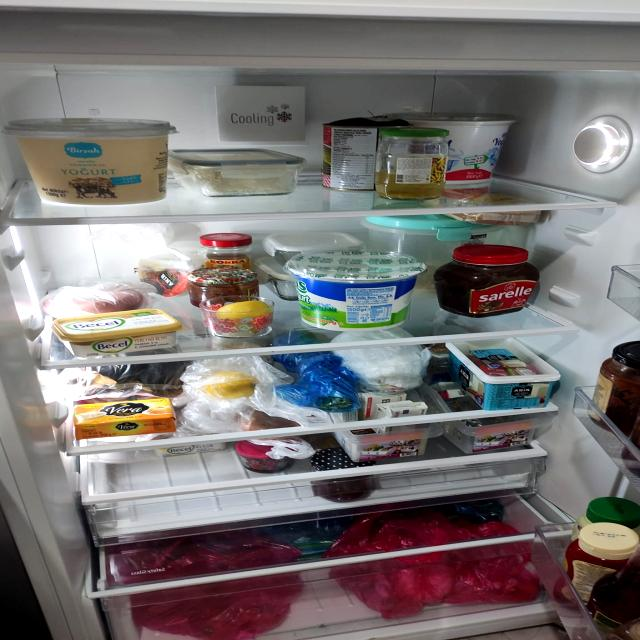lemon: (201, 297, 278, 332)
margarine: (55, 310, 181, 354)
yogurt: (4, 110, 180, 208), (284, 247, 430, 331)
